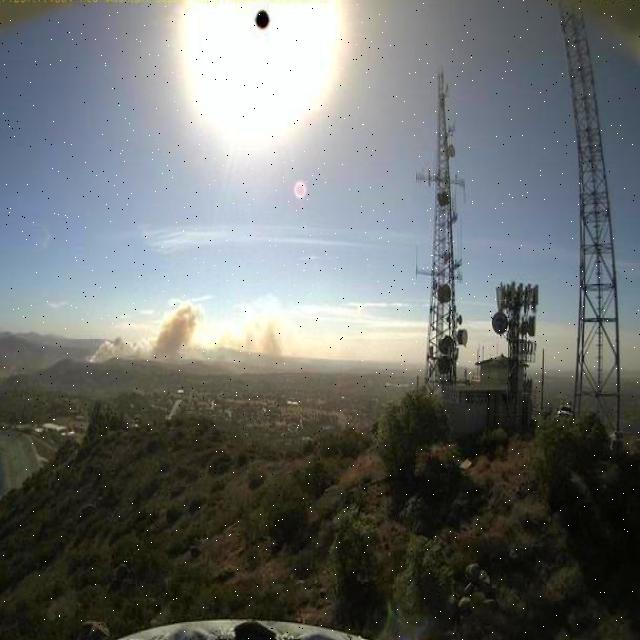smoke: (86, 287, 205, 370)
